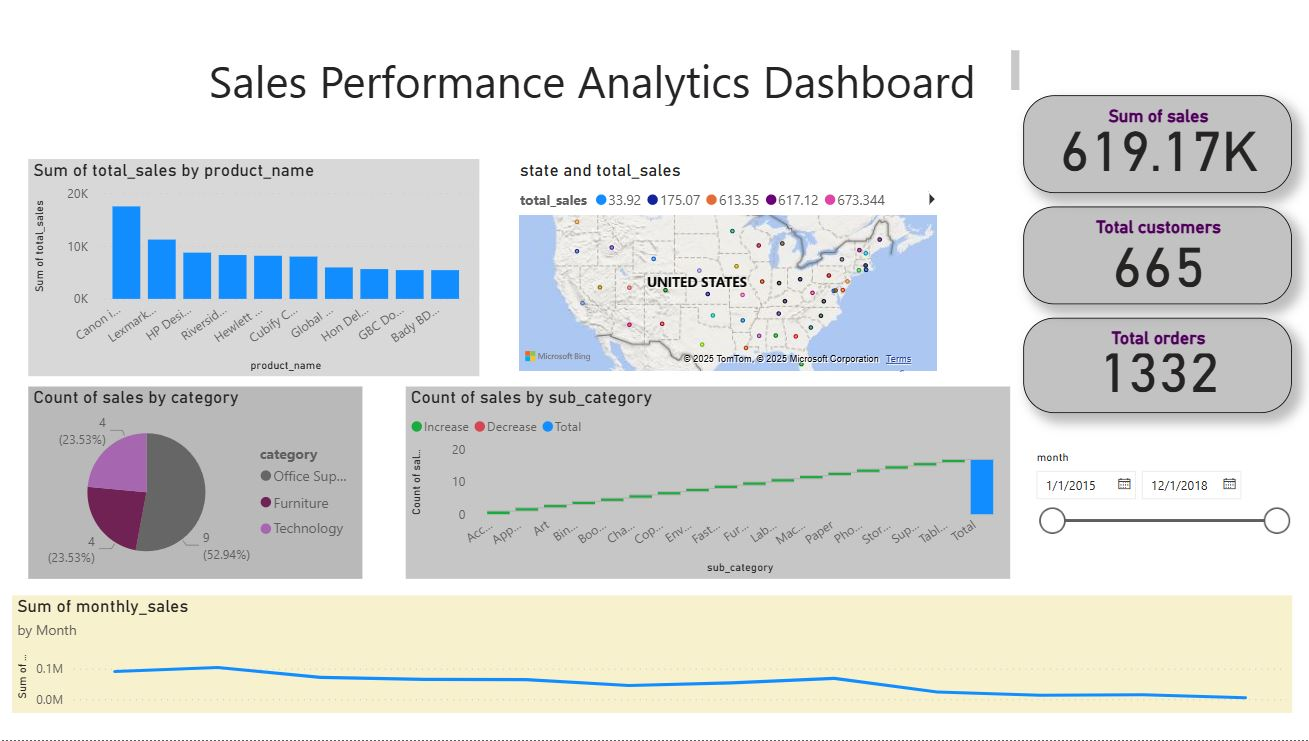

This screenshot's page, from the dashboard's own definition file:
{"tool":"powerbi","page":{"name":"Page 1","canvas":[1280,720],"ordinal":0},"visuals":[{"type":"card","title":"Sum of sales ","fields":{"Values":["Sum(card_visuals.sales_sum)"]},"box":[1000.3,97.4,259.3,94.7],"z":0},{"type":"card","title":"Total orders","fields":{"Values":["Sum(card_visuals.total_orders)"]},"box":[1000.3,312.9,259.3,92],"z":1000},{"type":"card","title":"Total customers","fields":{"Values":["Sum(card_visuals.total_customer)"]},"box":[1000.3,204.5,259.3,94.7],"z":2000},{"type":"textbox","box":[175.6,49.4,824.7,63.1],"z":3000},{"type":"lineChart","fields":{"Category":["sales over month.month.Variation.Date Hierarchy.Month"],"Y":["Sum(sales over month.monthly_sales)"]},"box":[24.7,580.4,1235,113.9],"z":4000},{"type":"map","fields":{"Category":["Map visuals or regional bar charts.state"],"Series":["Map visuals or regional bar charts.total_sales"]},"box":[509.1,159.2,413,209.9],"z":5000},{"type":"waterfallChart","fields":{"Category":["Category and Sub-Category Breakdown.sub_category"],"Y":["CountNonNull(Category and Sub-Category Breakdown.sales)"]},"box":[403.4,378.7,583.2,185.2],"z":6000},{"type":"slicer","fields":{"Values":["sales over month.month"]},"box":[1000.3,435,266.2,102.9],"z":7000},{"type":"columnChart","fields":{"Category":["Top N bar chart.product_name"],"Y":["Sum(Top N bar chart.total_sales)"]},"box":[39.8,159.2,435,209.9],"z":8000},{"type":"pieChart","fields":{"Y":["CountNonNull(Category and Sub-Category Breakdown.sales)"],"Category":["Category and Sub-Category Breakdown.category"]},"box":[39.8,378.7,322.5,185.2],"z":9000}]}

Visuals, with their boxes in screenshot pixels (x1, y1, x2, y2), scaled from the page's 1280x720 canvas onto the 1309x741 screenshot:
"Sum of sales " card: {"left": 1023, "top": 100, "right": 1288, "bottom": 198}
"Total orders" card: {"left": 1023, "top": 322, "right": 1288, "bottom": 417}
"Total customers" card: {"left": 1023, "top": 210, "right": 1288, "bottom": 308}
textbox: {"left": 180, "top": 51, "right": 1023, "bottom": 116}
lineChart - sales over month.month.Variation.Date Hierarchy.Month x Sum(sales over month.monthly_sales): {"left": 25, "top": 597, "right": 1288, "bottom": 715}
map - Map visuals or regional bar charts.state x Map visuals or regional bar charts.total_sales: {"left": 521, "top": 164, "right": 943, "bottom": 380}
waterfallChart - Category and Sub-Category Breakdown.sub_category x CountNonNull(Category and Sub-Category Breakdown.sales): {"left": 413, "top": 390, "right": 1009, "bottom": 580}
slicer - sales over month.month: {"left": 1023, "top": 448, "right": 1295, "bottom": 554}
columnChart - Top N bar chart.product_name x Sum(Top N bar chart.total_sales): {"left": 41, "top": 164, "right": 486, "bottom": 380}
pieChart - CountNonNull(Category and Sub-Category Breakdown.sales) x Category and Sub-Category Breakdown.category: {"left": 41, "top": 390, "right": 371, "bottom": 580}
